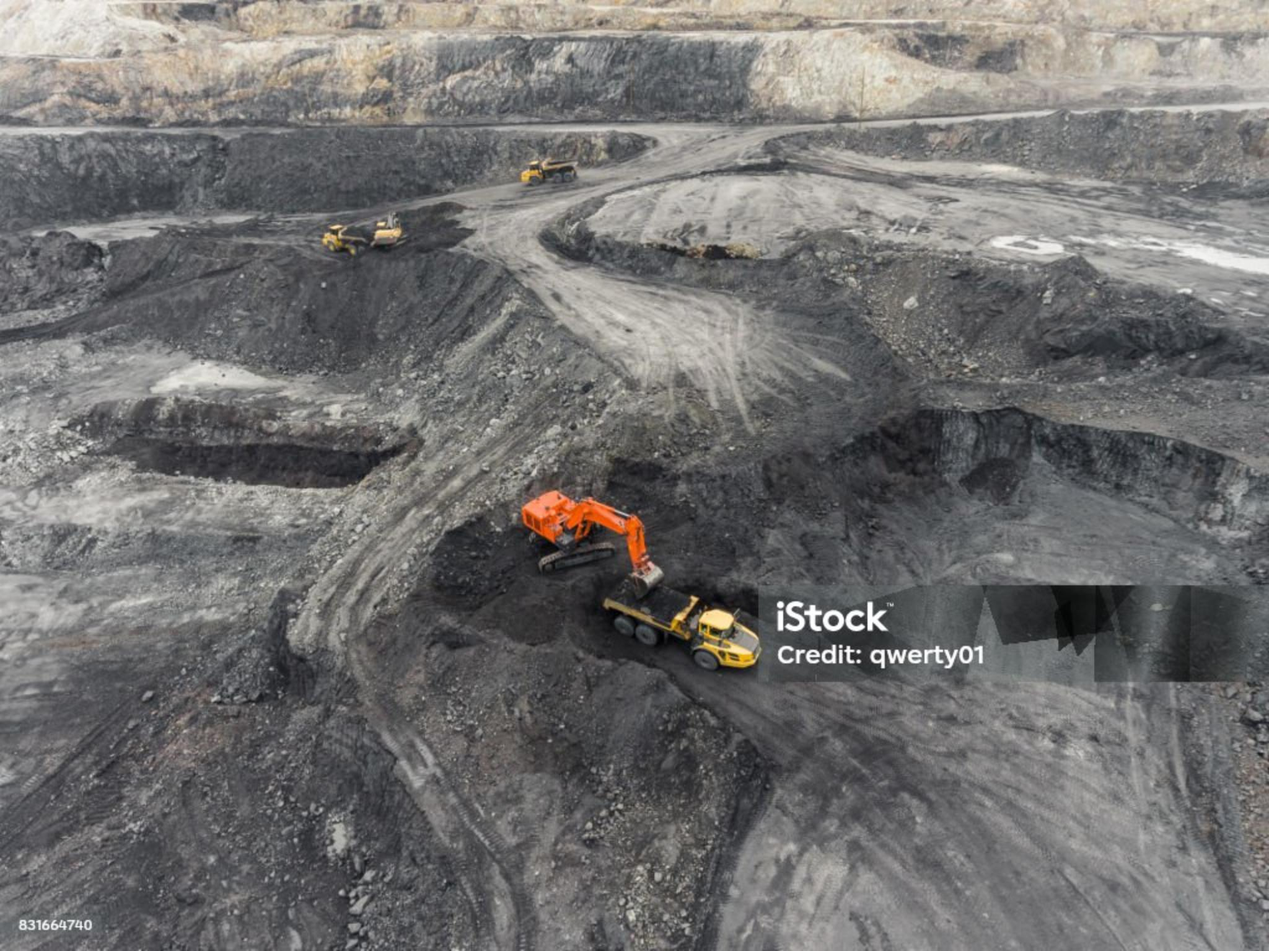benches: (288, 125, 848, 950)
excavator: (520, 488, 673, 585)
truck: (601, 581, 764, 674), (333, 209, 407, 260), (520, 155, 580, 190)
